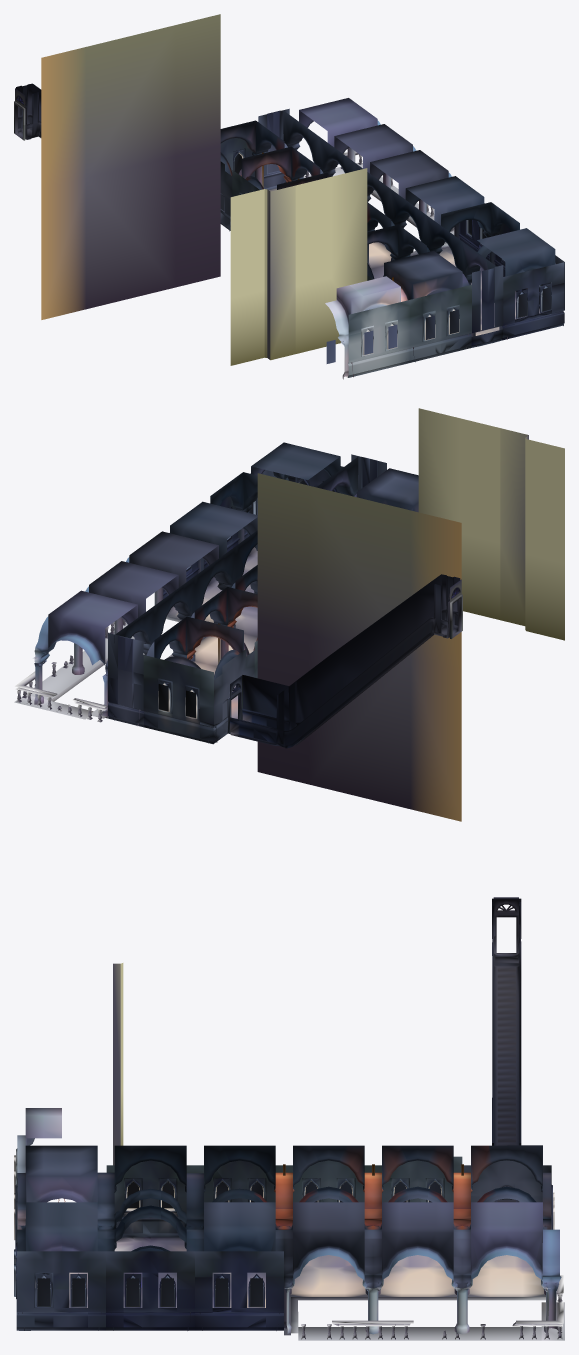
The picture shows the model from 3 angles, top to bottom: view 1: azimuth 30°, elevation 25°; view 2: azimuth 150°, elevation 25°; view 3: azimuth 270°, elevation 25°; orthographic projection. The views are drawn at different scales.
Visible parts, largest first — view 1: stg010_o04_Mesh_0000; view 2: stg010_o04_Mesh_0000; view 3: stg010_o04_Mesh_0000.
Boxes of the visible parts, x1,y1,x2,y2 form: stg010_o04_Mesh_0000: (14,14,564,379); stg010_o04_Mesh_0000: (14,408,564,821); stg010_o04_Mesh_0000: (14,897,564,1340).
Bounding box in the file's own units: 10211 × 7000 × 10645.
